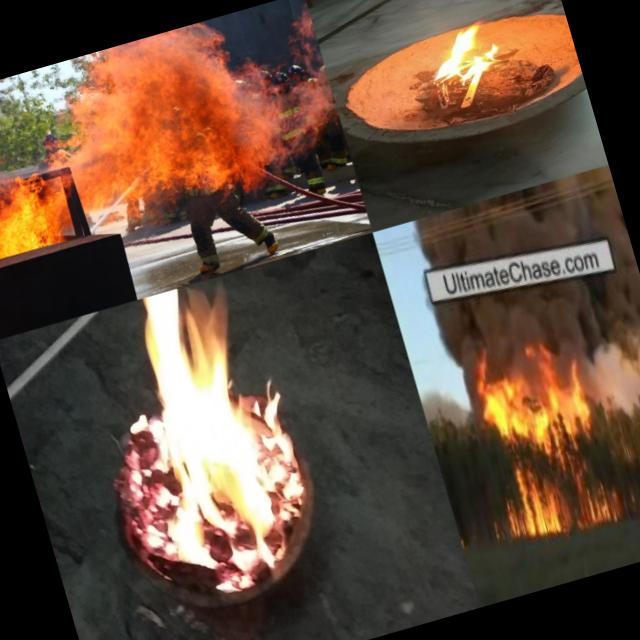fire: (0, 0, 352, 271), (119, 267, 336, 606), (468, 336, 620, 550), (95, 408, 201, 608), (414, 11, 514, 92)
smoke: (560, 273, 640, 420)
